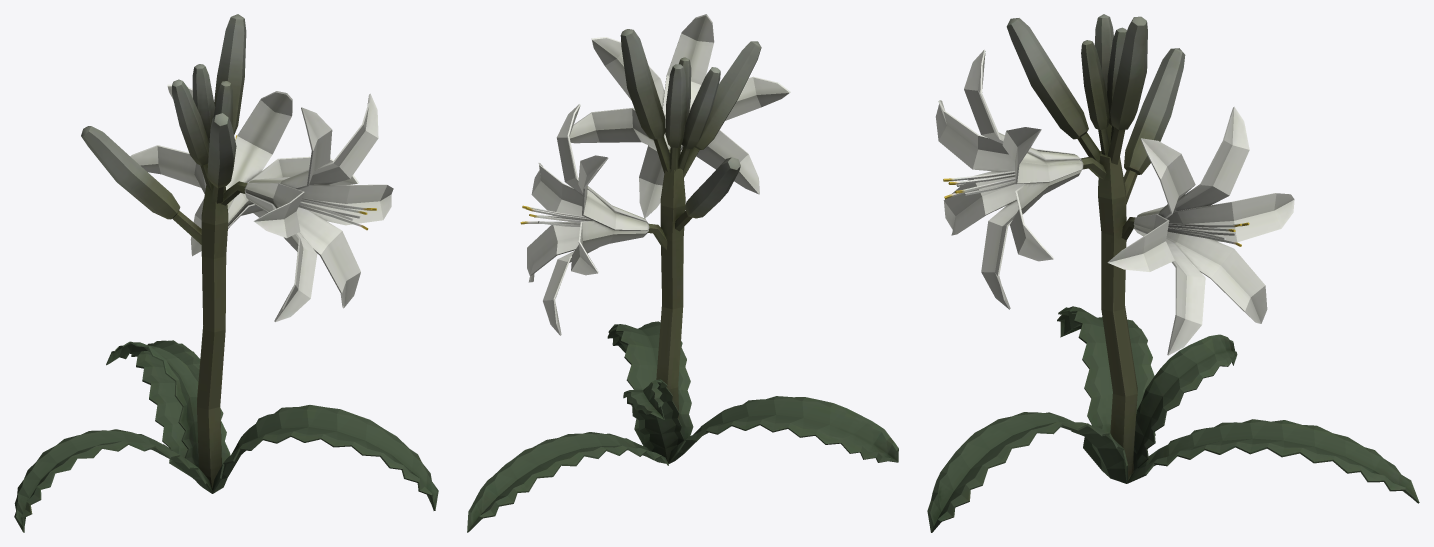
Rendered from Desert_lily.glb.
3 renders of one model, left to right at view 1: azimuth 30°, elevation 25°; view 2: azimuth 150°, elevation 25°; view 3: azimuth 270°, elevation 25°, orthographic. The views are drawn at different scales.
Visible parts, largest first — view 1: DeserLily_Mesh; view 2: DeserLily_Mesh; view 3: DeserLily_Mesh.
Part boxes in pixels (<box>): DeserLily_Mesh: <box>14,14,438,532</box>; DeserLily_Mesh: <box>467,14,898,532</box>; DeserLily_Mesh: <box>927,14,1419,532</box>.
Bounding box in the file's own units: 4.29 × 5.12 × 4.8.
1 material, 1 textured.
